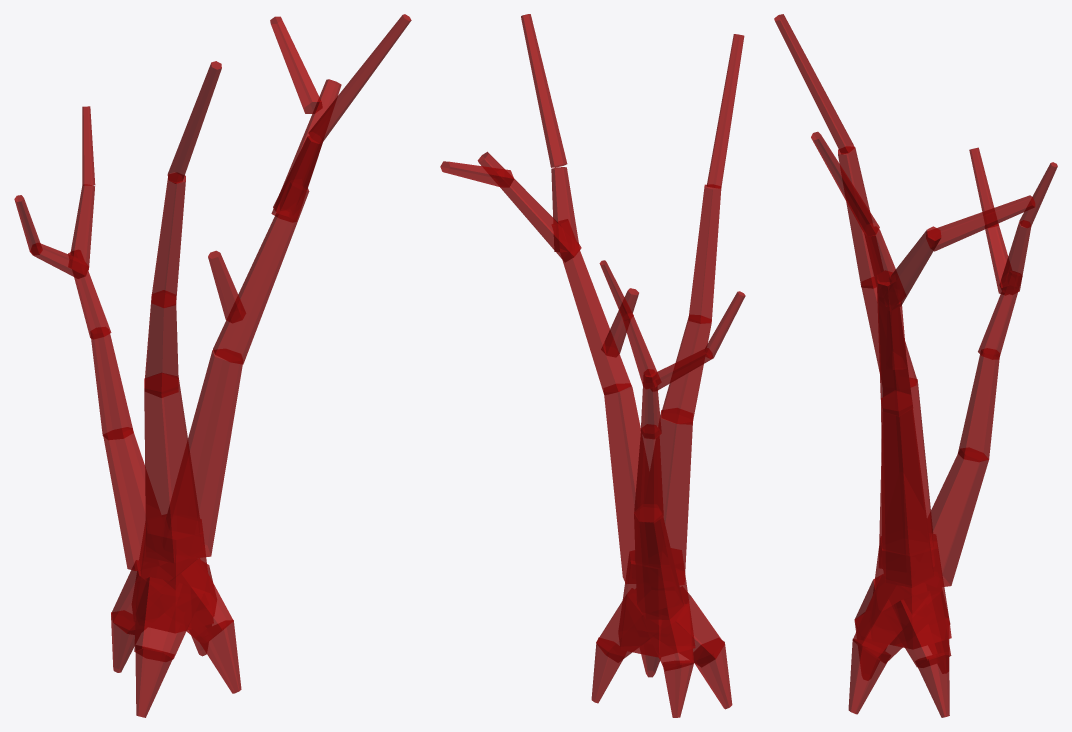
File: SM_Env_Tree_Fruit_03_Collision.fbx
The picture shows the model from 3 angles, left to right: view 1: azimuth 30°, elevation 25°; view 2: azimuth 150°, elevation 25°; view 3: azimuth 270°, elevation 25°; orthographic projection. The views are drawn at different scales.
Parts seen in each view (by area): view 1: SM_Env_Tree_Fruit_03_Collision; view 2: SM_Env_Tree_Fruit_03_Collision; view 3: SM_Env_Tree_Fruit_03_Collision.
Part boxes in pixels (x1,y1,x2,y2): SM_Env_Tree_Fruit_03_Collision: (14,14,411,717); SM_Env_Tree_Fruit_03_Collision: (440,14,745,717); SM_Env_Tree_Fruit_03_Collision: (774,14,1057,717).
Bounding box in the file's own units: 154 × 317 × 120.
